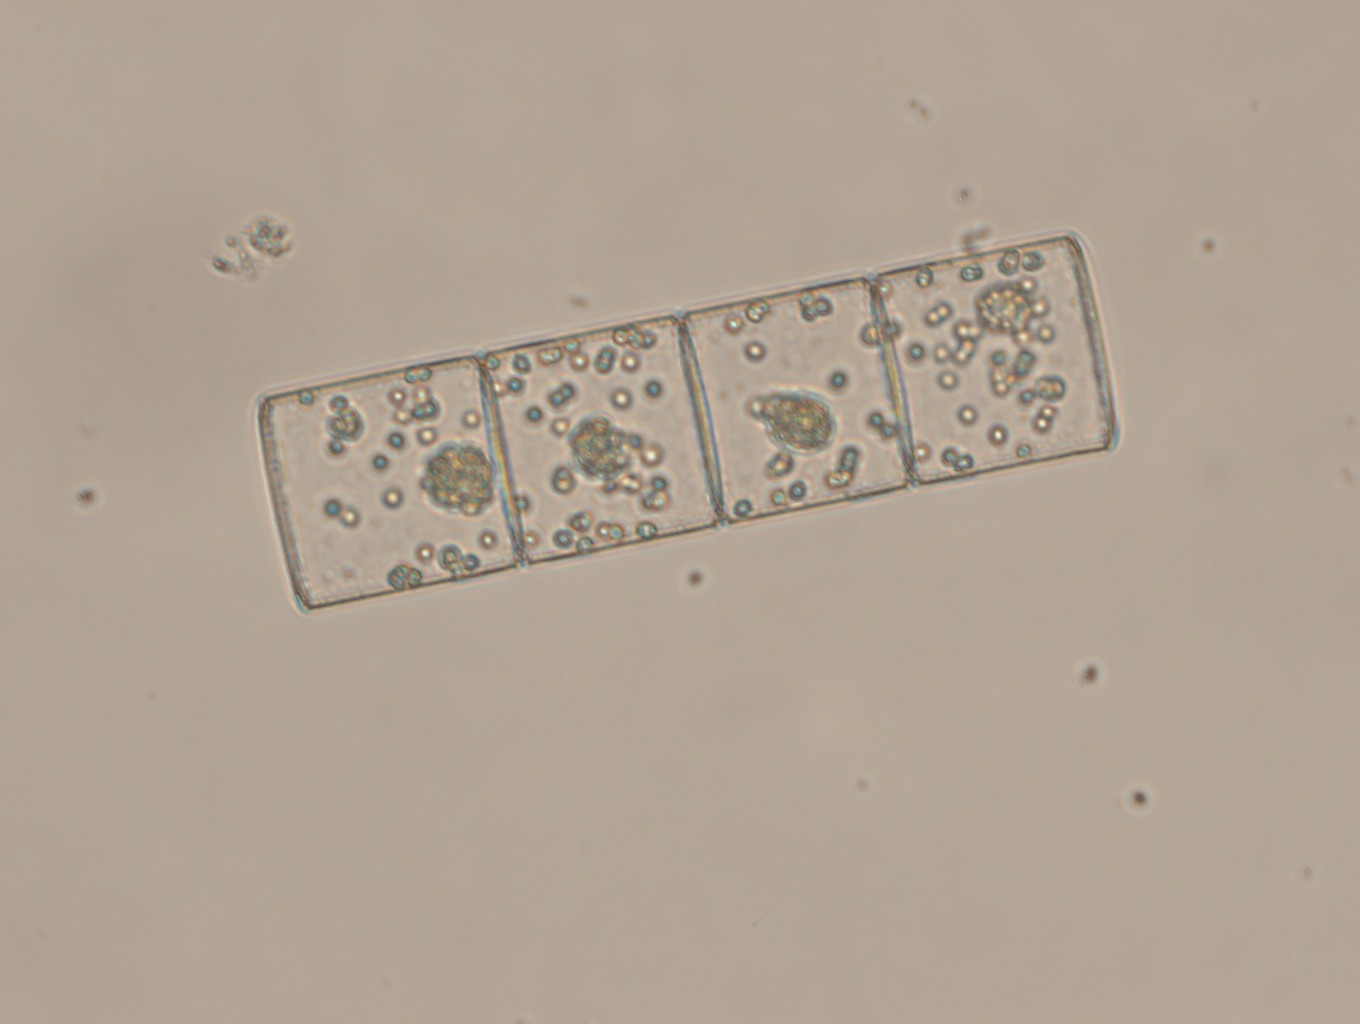guinardia flaccida: (245, 234, 1134, 612)
